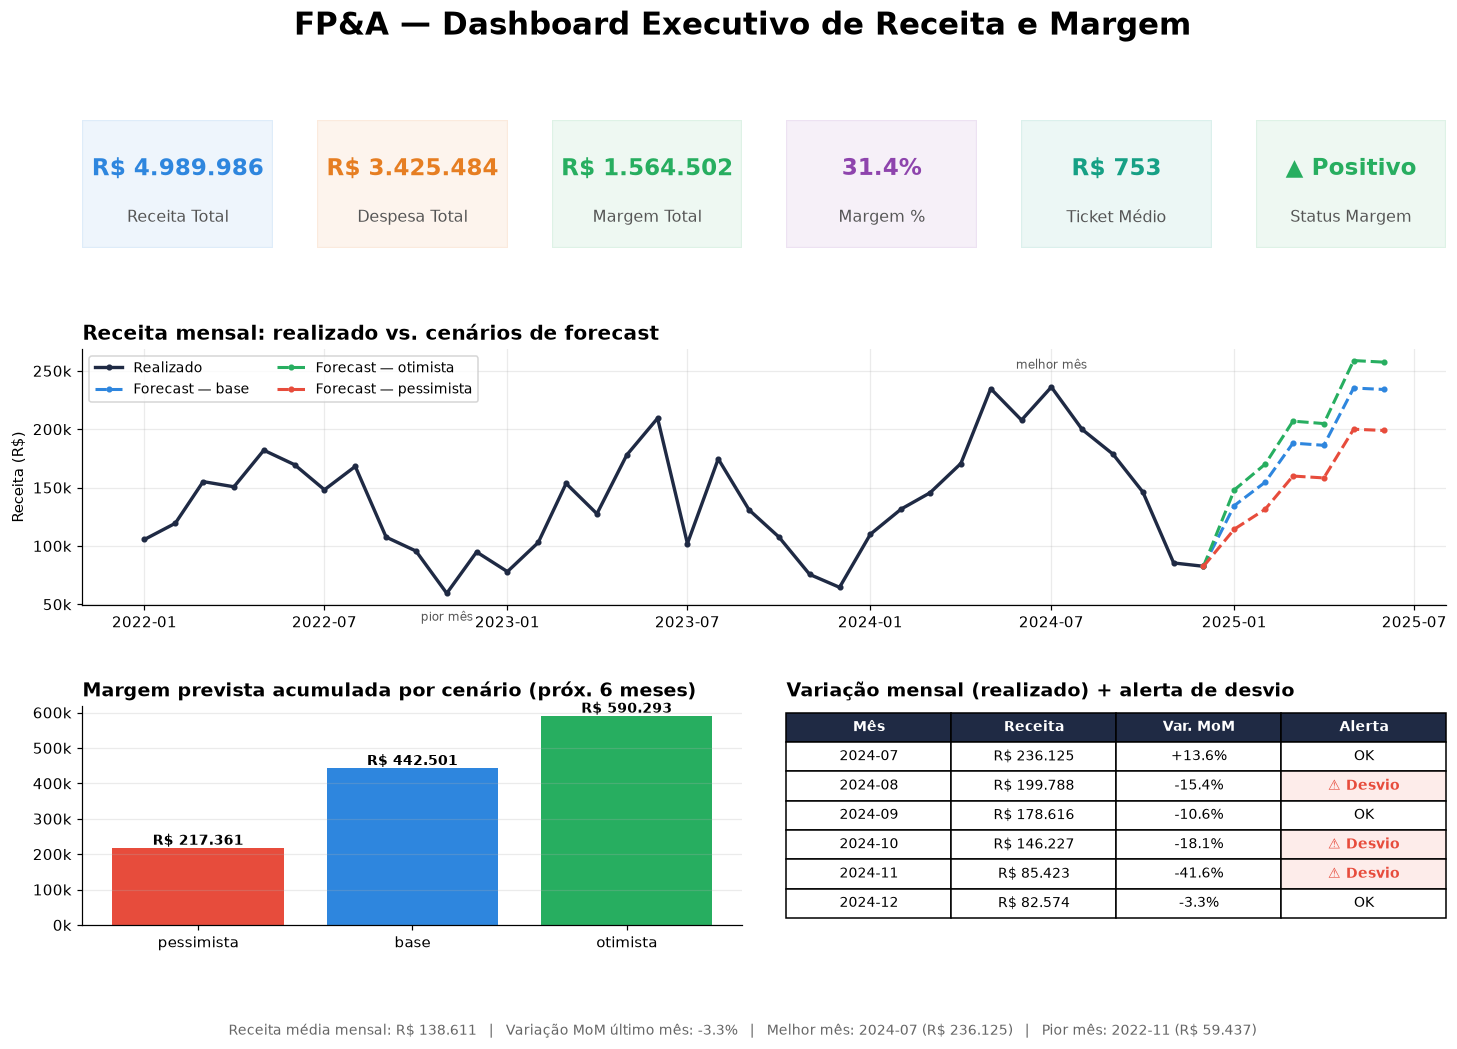

Layout of this report page (visuals, bound fields, positions):
{"tool":"powerbi","page":{"name":"Resumo - Visão Executiva","canvas":[1280,720],"ordinal":0},"visuals":[{"type":"cardVisual","fields":{"Data":["Medidas.Receita Total","Medidas.Despesa Total","Medidas.Margem Total","Medidas.Margem %"]},"box":[69,30,1142,135],"z":0},{"type":"lineChart","title":"Receita Mensal: Realizado vs Cenario de Forecast","fields":{"Y":["Medidas.Receita Total"],"Series":["fpa_dashboard.cenario"],"Category":["fpa_dashboard.data.Variation.Hierarquia de datas.Ano"]},"box":[0,157,1280,265],"z":1000},{"type":"barChart","title":"Margem prevista acumulada por cenário (Prox. 6 meses)","fields":{"Y":["Medidas.Margem Total"],"Category":["fpa_dashboard.cenario"]},"box":[0,433,640,287],"z":2000},{"type":"tableEx","fields":{"Values":["fpa_dashboard.ano_mes.Variation.Hierarquia de datas.Ano","fpa_dashboard.ano_mes.Variation.Hierarquia de datas.Mês","Medidas.Receita Total","Medidas.Variacao Receita MoM %","Medidas.Alerta Desvio Margem","Medidas.Status Tendencia"]},"box":[640,433,640,287],"z":3000},{"type":"textbox","box":[457,0,366,59],"z":4000}]}

Visuals, with their boxes on the page's 1280x720 design canvas (x1, y1, x2, y2). These are canvas units, not pixel positions in the 1457x1049 screenshot, which may show the page scaled, cropped or inside an application window:
cardVisual - Medidas.Receita Total x Medidas.Despesa Total: (69,30,1211,165)
"Receita Mensal: Realizado vs Cenario de Forecast" lineChart: (0,157,1280,422)
"Margem prevista acumulada por cenário (Prox. 6 meses)" barChart: (0,433,640,720)
tableEx - fpa_dashboard.ano_mes.Variation.Hierarquia de datas.Ano x fpa_dashboard.ano_mes.Variation.Hierarquia de datas.Mês: (640,433,1280,720)
textbox: (457,0,823,59)
